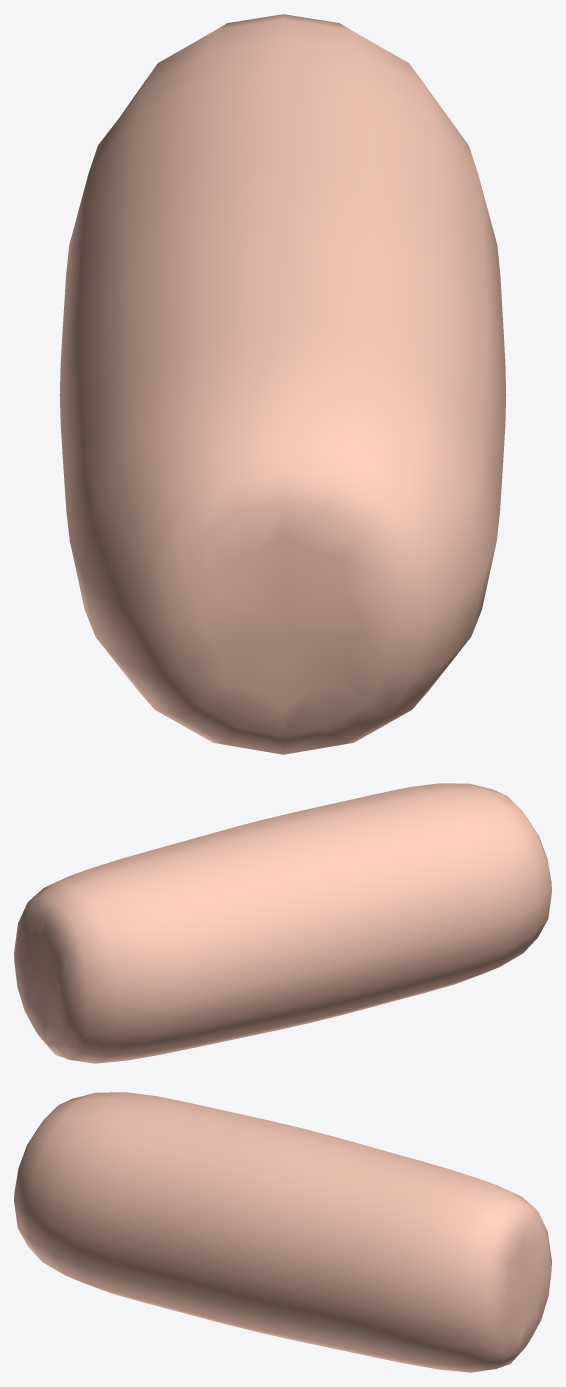
File: Candypowder_A_02.fbx
3 views of the same model, one above another, from view 1: azimuth 30°, elevation 25°; view 2: azimuth 150°, elevation 25°; view 3: azimuth 270°, elevation 25° (orthographic). The views are drawn at different scales.
Parts seen in each view (by area): view 1: Candypowder_A_02_LOD0; view 2: Candypowder_A_02_LOD0; view 3: Candypowder_A_02_LOD0.
Boxes of the visible parts, <box> form: Candypowder_A_02_LOD0: <box>59,14,506,754</box>; Candypowder_A_02_LOD0: <box>14,783,551,1063</box>; Candypowder_A_02_LOD0: <box>14,1092,551,1372</box>.
Size of what is drawn, in the model's own units: 396 by 206 by 536.
